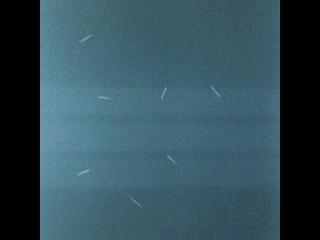scratch: (125, 191, 144, 210), (75, 31, 95, 49), (209, 83, 224, 100), (163, 153, 177, 166), (75, 167, 92, 177), (159, 85, 169, 100), (97, 94, 113, 101)
